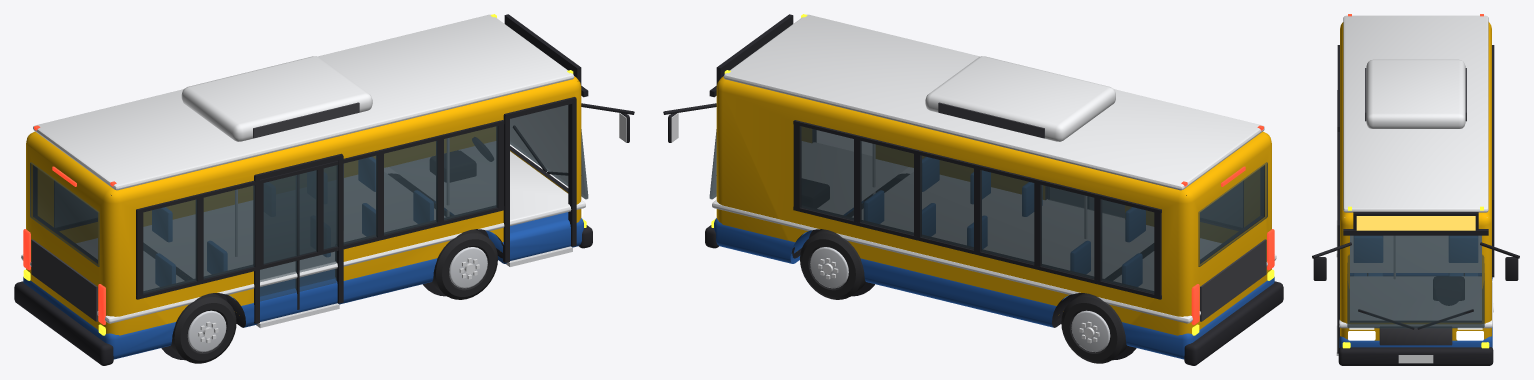
The model's file is bus.glb.
3 views of the same model, side by side, from view 1: azimuth 30°, elevation 25°; view 2: azimuth 150°, elevation 25°; view 3: azimuth 270°, elevation 25° (orthographic). The views are drawn at different scales.
Parts seen in each view (by area): view 1: white, glass, body, trim, skirt, tire, grille, seat, rim, chrome, lightR; view 2: white, body, glass, trim, skirt, tire, seat, grille, rim, chrome, lightR; view 3: white, glass, trim, body, destsign, seat, grille, skirt, lightF, chrome.
Part boxes in pixels (bbox=[...]): white: bbox=[21, 14, 585, 323]; glass: bbox=[30, 105, 588, 301]; body: bbox=[26, 76, 581, 335]; trim: bbox=[14, 14, 634, 365]; skirt: bbox=[23, 201, 583, 359]; tire: bbox=[170, 174, 497, 363]; grille: bbox=[31, 102, 359, 321]; seat: bbox=[152, 157, 433, 294]; rim: bbox=[187, 247, 487, 352]; chrome: bbox=[198, 113, 626, 343]; lightR: bbox=[23, 125, 116, 324]; white: bbox=[712, 14, 1276, 323]; body: bbox=[716, 76, 1271, 335]; glass: bbox=[709, 126, 1267, 293]; trim: bbox=[663, 14, 1283, 365]; skirt: bbox=[714, 201, 1274, 359]; tire: bbox=[800, 174, 1127, 363]; seat: bbox=[864, 157, 1145, 294]; grille: bbox=[938, 102, 1266, 321]; rim: bbox=[810, 247, 1110, 352]; chrome: bbox=[671, 113, 1099, 343]; lightR: bbox=[1181, 125, 1274, 324]; white: bbox=[1339, 15, 1492, 363]; glass: bbox=[1347, 235, 1484, 328]; trim: bbox=[1312, 45, 1519, 365]; body: bbox=[1340, 22, 1491, 340]; destsign: bbox=[1356, 216, 1475, 230]; seat: bbox=[1354, 236, 1477, 275]; grille: bbox=[1365, 68, 1466, 345]; skirt: bbox=[1339, 273, 1492, 347]; lightF: bbox=[1348, 327, 1483, 340]; chrome: bbox=[1336, 220, 1493, 355].
Size of the model in its own units: 7.83 by 3.19 by 3.15.
